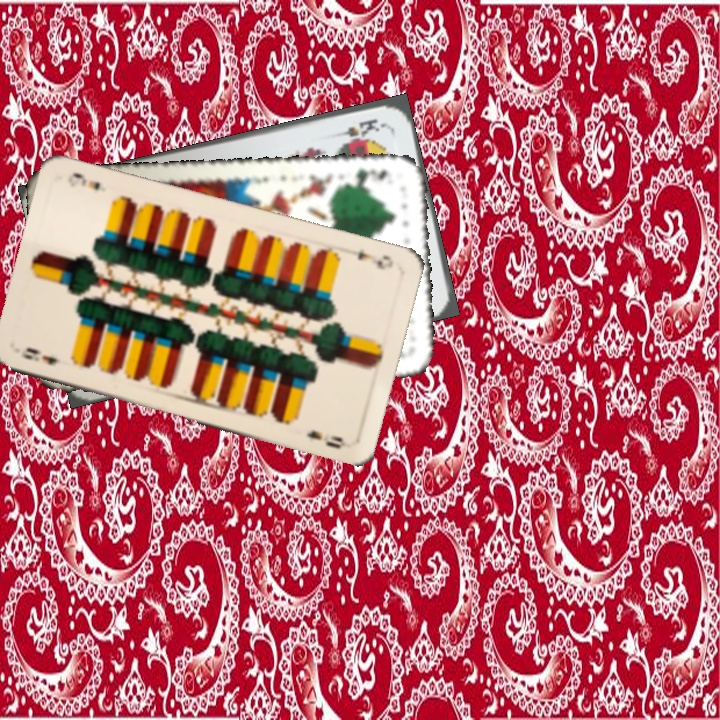E9: (353, 247, 396, 272), (17, 344, 61, 368)
GK: (342, 164, 390, 188)
SK: (329, 114, 388, 140)
